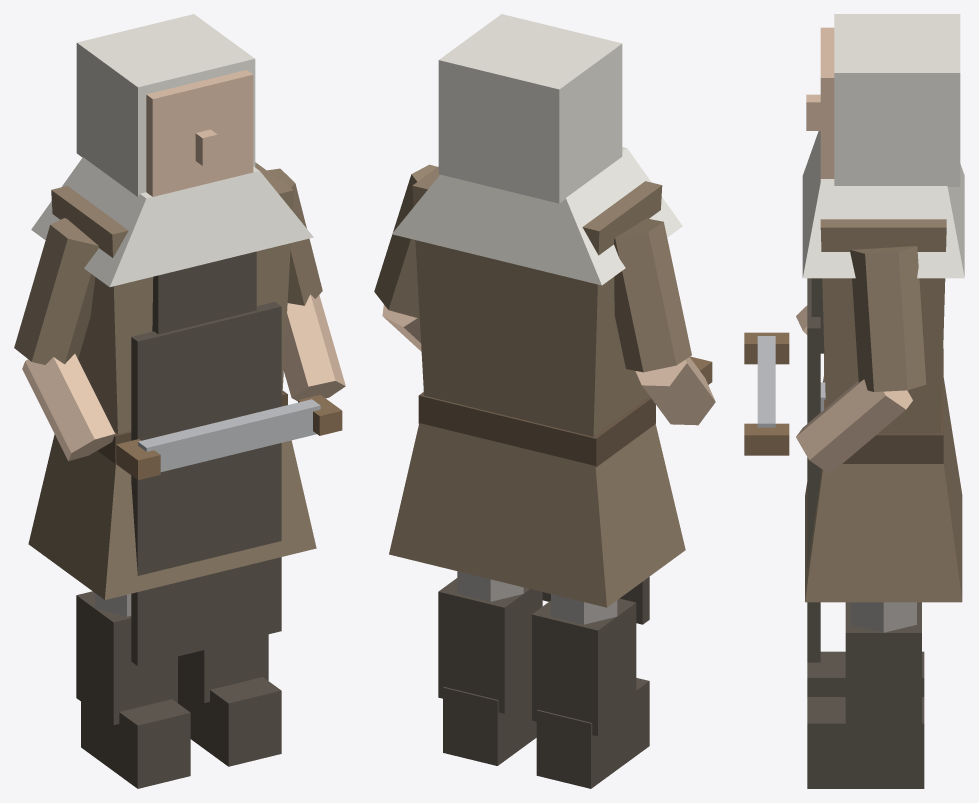
The model's file is char_tanner.glb.
The picture shows the model from 3 angles, left to right: view 1: azimuth 30°, elevation 25°; view 2: azimuth 150°, elevation 25°; view 3: azimuth 270°, elevation 25°; orthographic projection. The views are drawn at different scales.
Parts seen in each view (by area): view 1: char_tanner; view 2: char_tanner; view 3: char_tanner.
Part boxes in pixels (x1,y1,x2,y2): char_tanner: [14, 14, 345, 788]; char_tanner: [374, 14, 715, 788]; char_tanner: [744, 14, 964, 788].
Bounding box in the file's own units: 0.7764 × 1.74 × 0.49.
